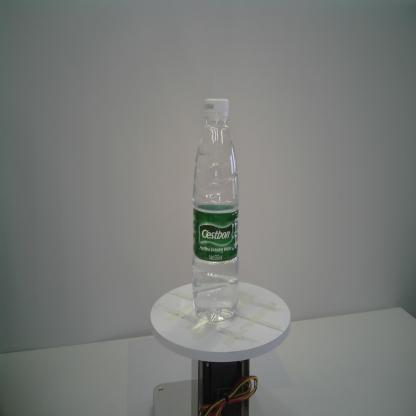Drink: (191, 98, 240, 323)
